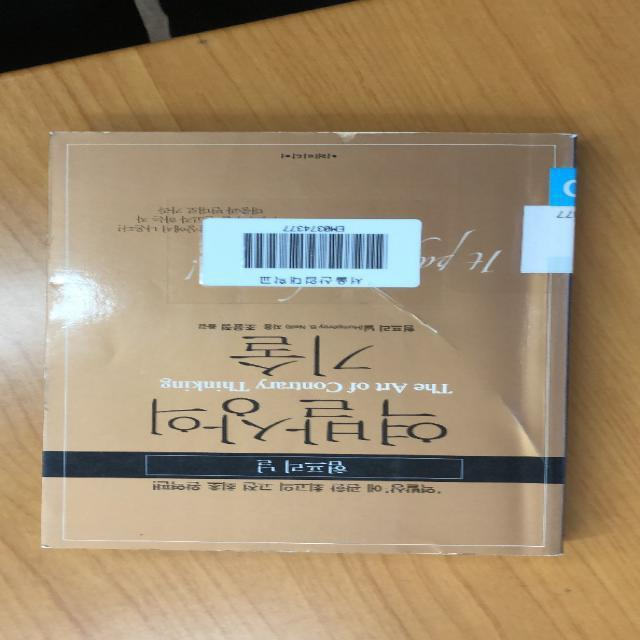Ripped: (259, 123, 437, 151)
Wornout: (207, 533, 326, 557), (44, 125, 130, 147), (409, 541, 488, 560), (545, 125, 580, 151), (35, 533, 73, 555)
